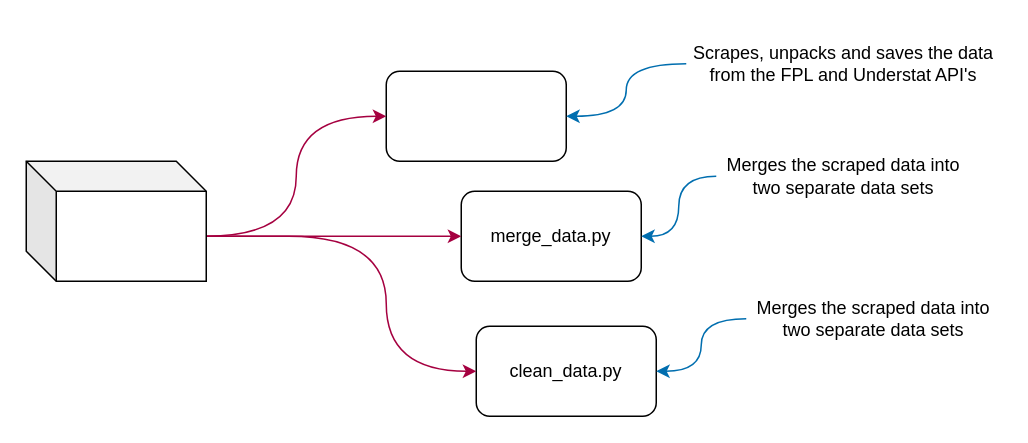
This 1028x443 diagram has some shape labels left out. Here are the shapes that lost their labels. From the top down, the centre of each, then its label:
At [475,115]: "collect_data.py".
At [115,220]: "main.py".
